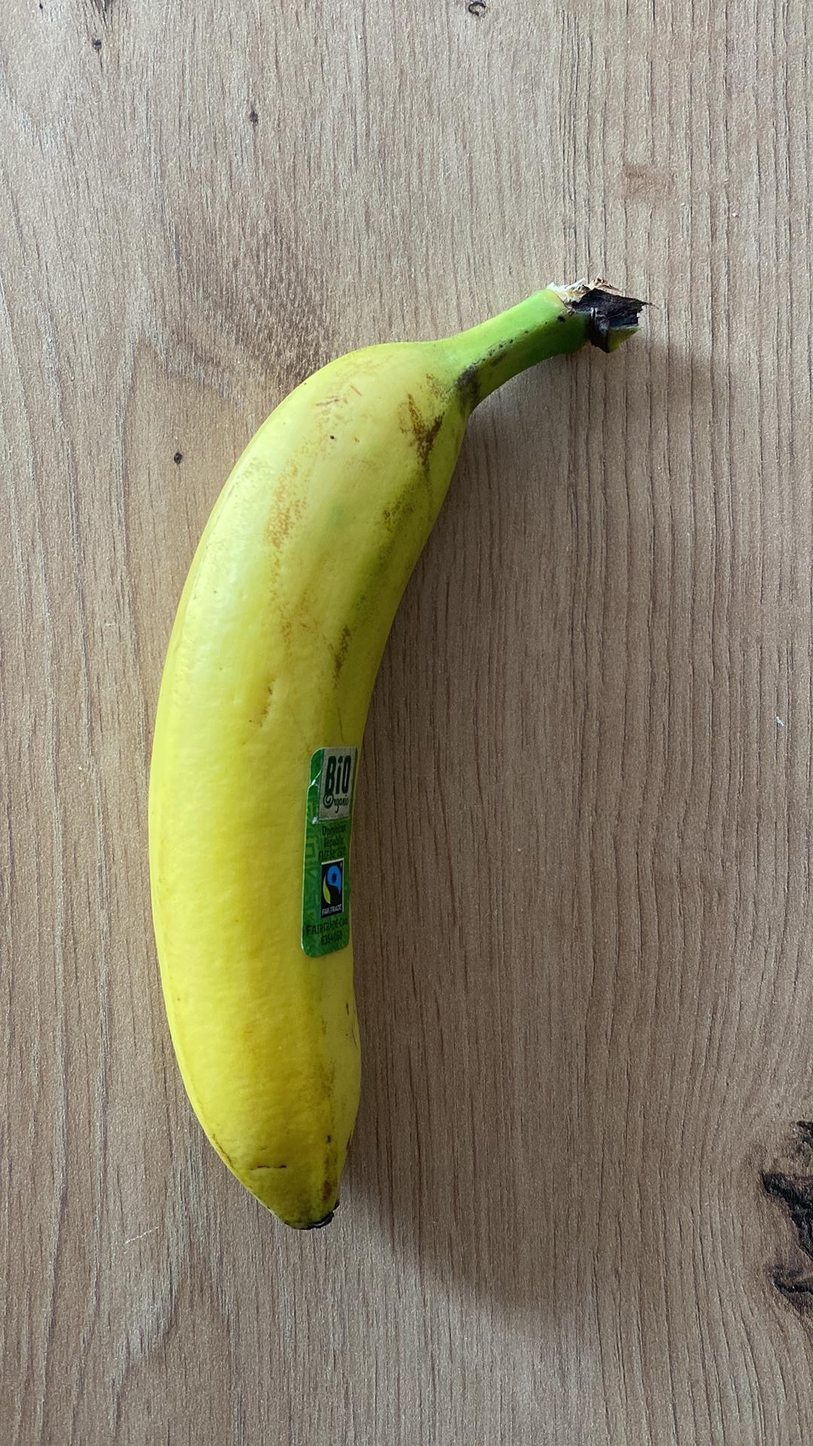banana: (103, 249, 645, 1235)
